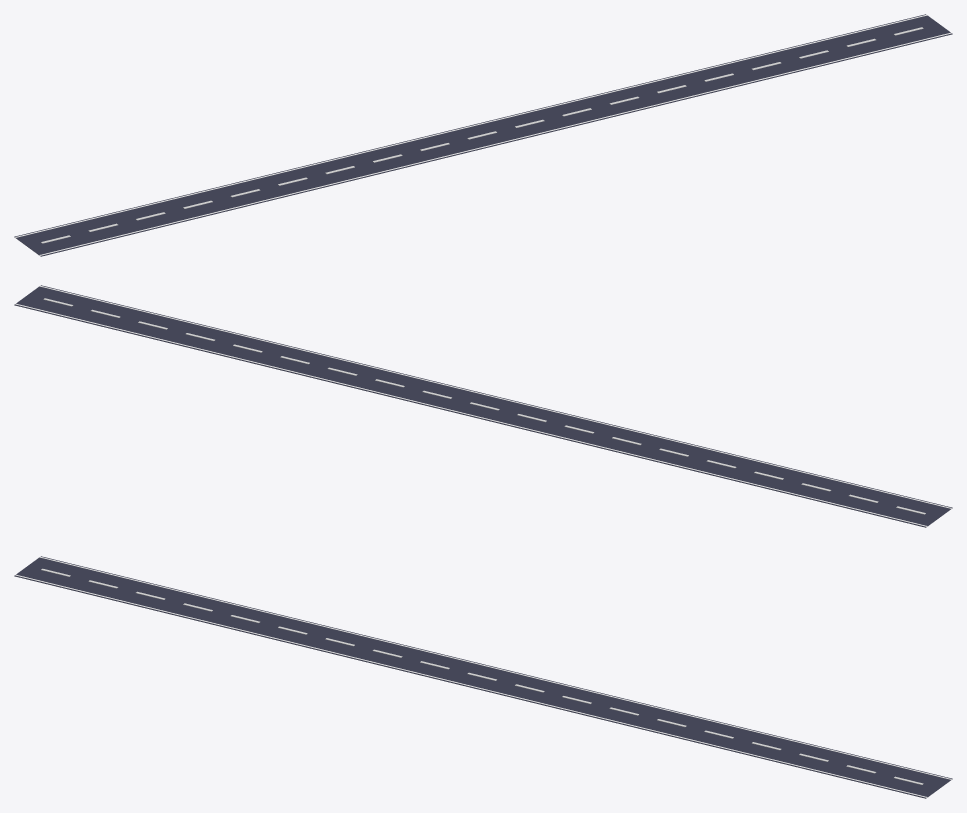
The model's file is street.fbx.
The picture shows the model from 3 angles, top to bottom: view 1: azimuth 30°, elevation 25°; view 2: azimuth 150°, elevation 25°; view 3: azimuth 330°, elevation 25°; orthographic projection.
Parts seen in each view (by area): view 1: Plane.008, Plane.009, Cube.009; view 2: Plane.008, Plane.009, Cube.009; view 3: Plane.008, Plane.009, Cube.009.
Boxes of the visible parts, x1,y1,x2,y2 form: Plane.008: [14, 14, 952, 256]; Plane.009: [15, 14, 951, 255]; Cube.009: [41, 27, 923, 243]; Plane.008: [14, 285, 952, 527]; Plane.009: [15, 285, 951, 526]; Cube.009: [43, 298, 925, 514]; Plane.008: [14, 556, 952, 798]; Plane.009: [15, 556, 951, 797]; Cube.009: [41, 568, 923, 784].
Size of the model in its own units: 6022 by 4.28 by 309.
